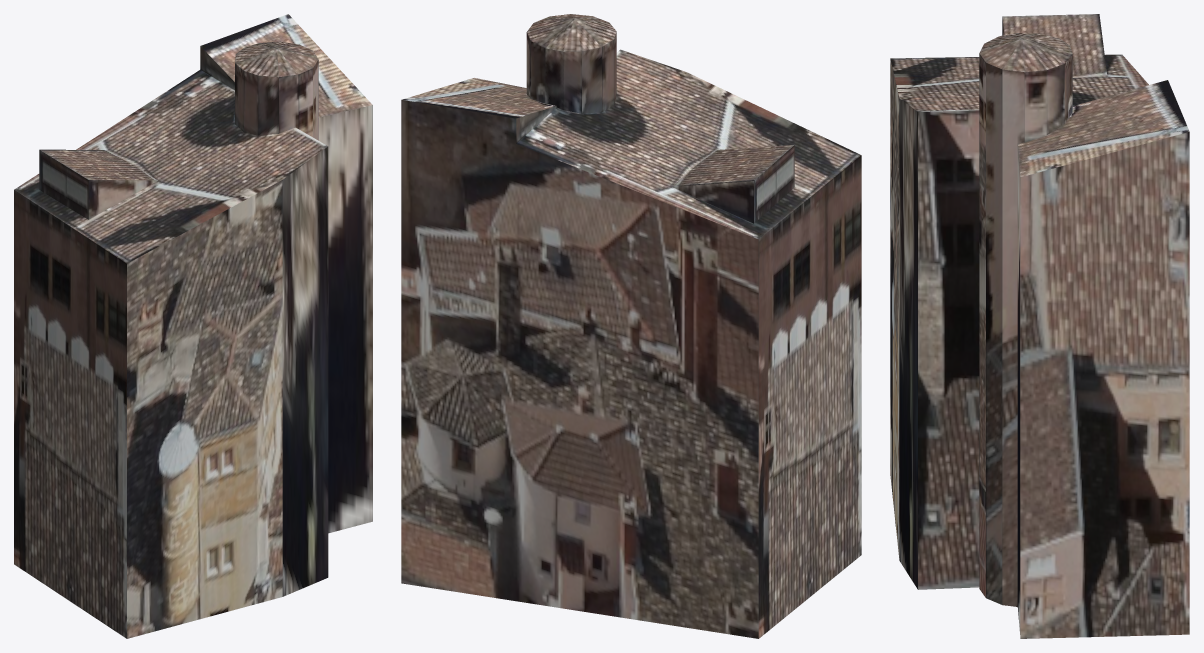
3 views of the same model, side by side, from view 1: azimuth 30°, elevation 25°; view 2: azimuth 150°, elevation 25°; view 3: azimuth 270°, elevation 25° (orthographic). The views are drawn at different scales.
Parts seen in each view (by area): view 1: Z_UP; view 2: Z_UP; view 3: Z_UP.
Part boxes in pixels (x1=…): Z_UP: x1=14, y1=14, x2=372, y2=638; Z_UP: x1=401, y1=14, x2=861, y2=638; Z_UP: x1=890, y1=14, x2=1189, y2=638.
Bounding box in the file's own units: 16.53 × 25.01 × 12.36.
Materials: 2 (1 with a texture image).
